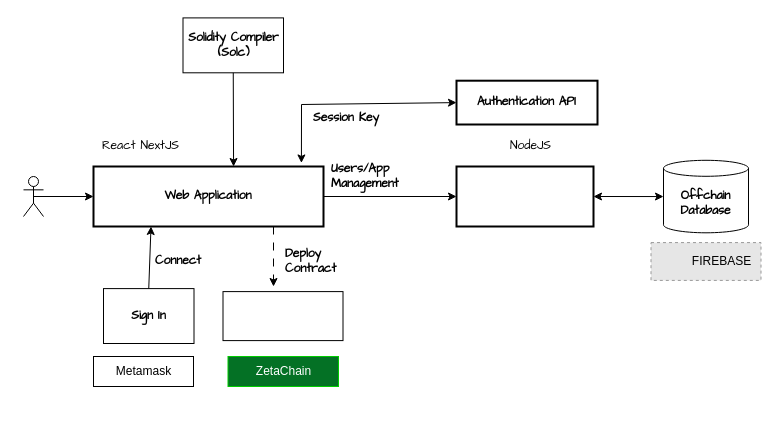
Image size: 779x429. Some labels were removed from this diagram. Grey dashed boxes stand in for pictures. The centre of each missing label's shape, as x and y in pixels:
"Blockchain" belongs at (282,316).
"Core API" belongs at (524,196).
"Users" belongs at (33,196).
